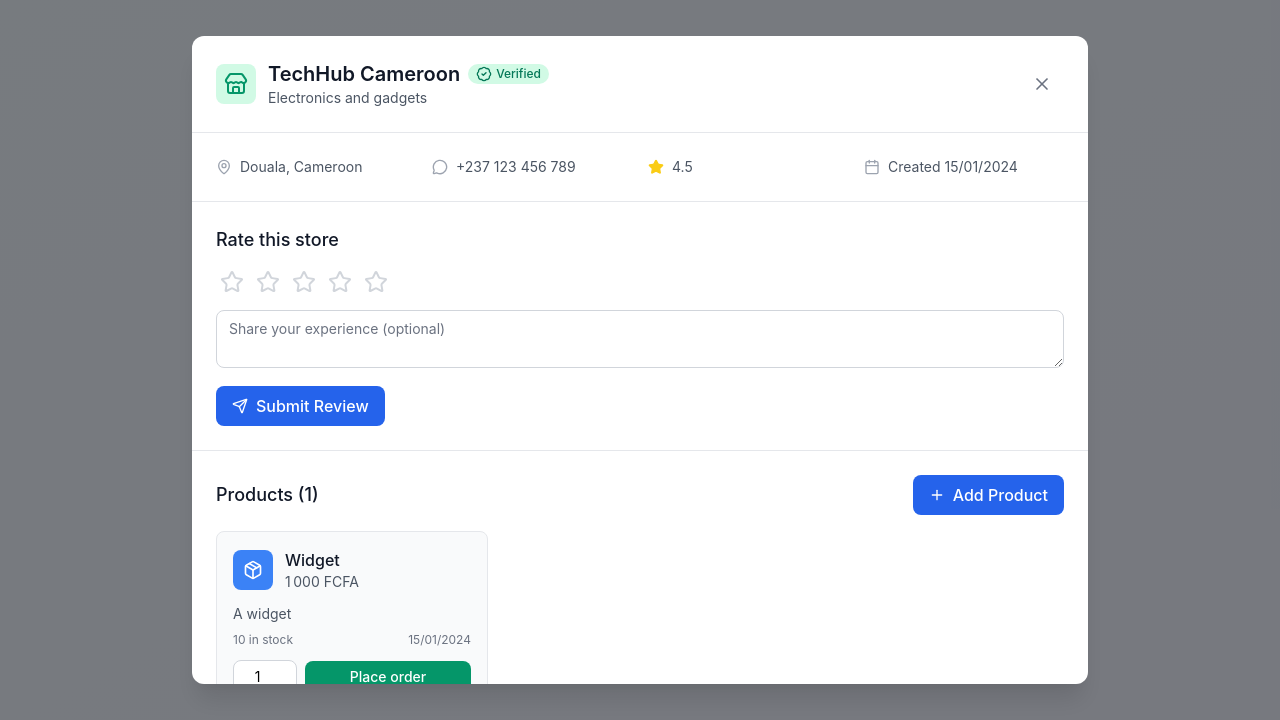
Test: StoreViewModal › places an order for a product and confirms the seller is notified
This screenshot has width=1280, height=720.
Expected: the heading "Widget" is shown, [285, 550, 340, 570]
Replace the text in the number field with test id "order-qty-p1" with "2" at {"x": 265, "y": 677}, box [233, 660, 297, 694]
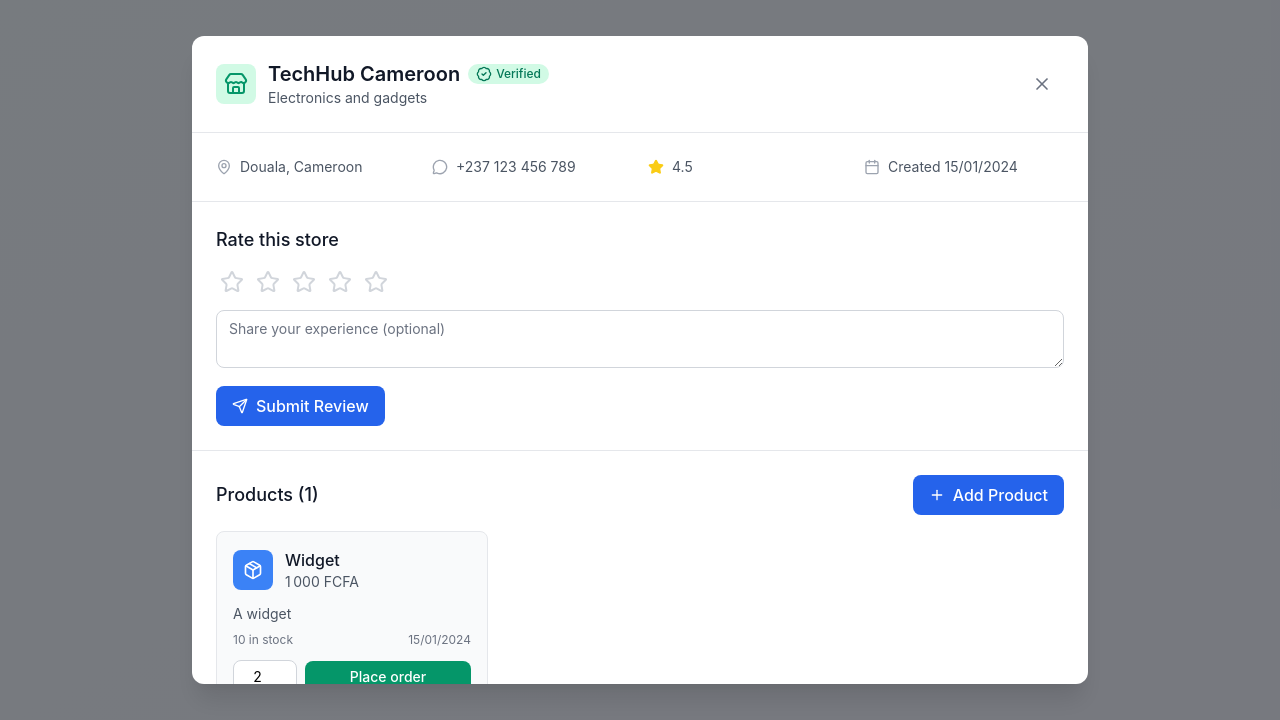
Click the button with test id "place-order-p1" at {"x": 388, "y": 677}, box [305, 661, 471, 693]
(page scrolled)
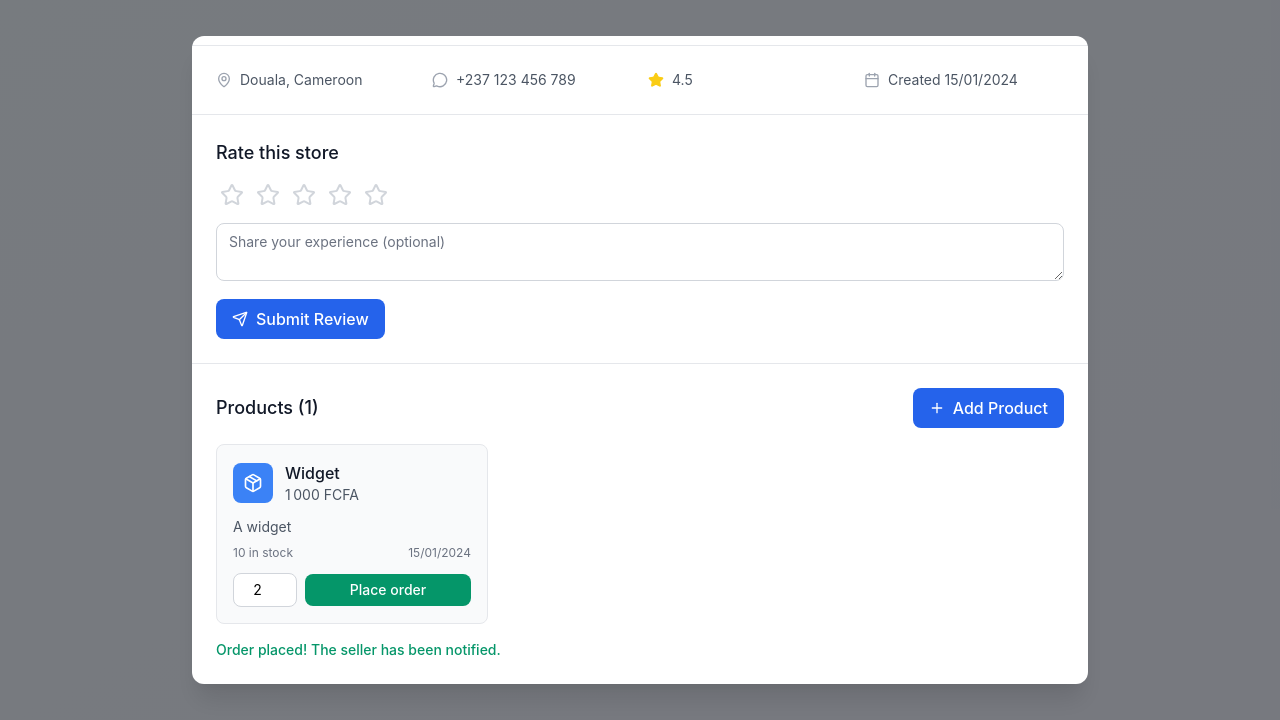
Expected: the text "Order placed! The seller has been notified." is shown, [216, 641, 501, 658]
